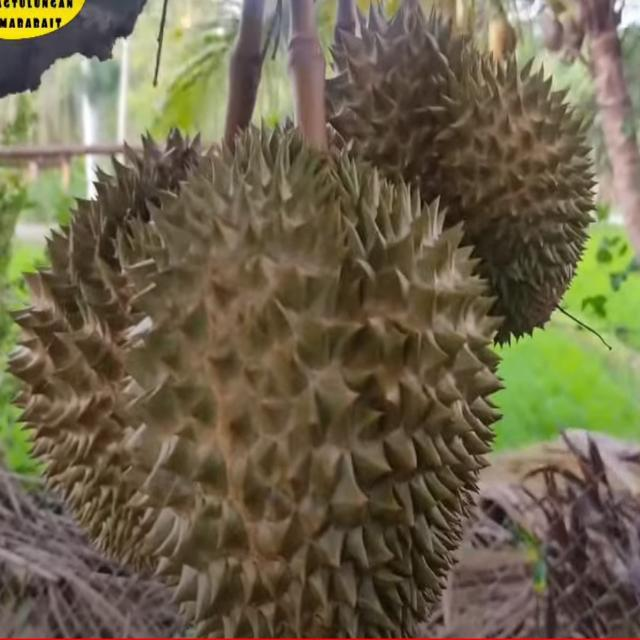mature: (123, 117, 500, 640), (300, 0, 597, 358)
